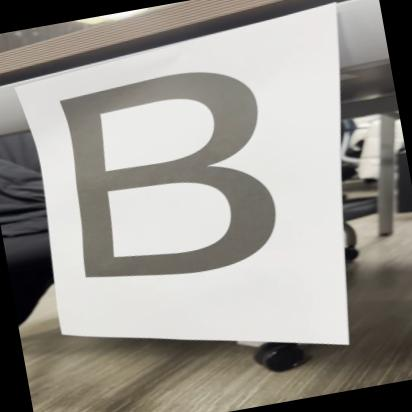seat: (36, 46, 314, 304)
